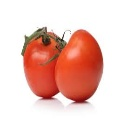tomato: (55, 28, 104, 101), (24, 31, 66, 97)
